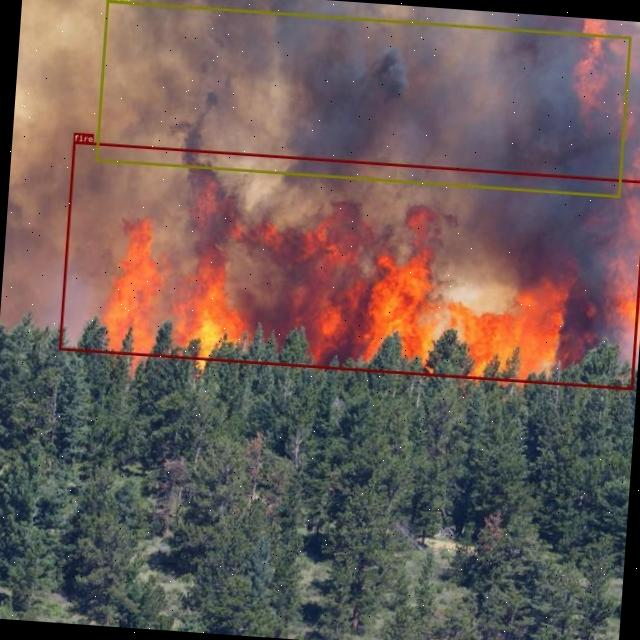fire: (57, 140, 640, 389)
smoke: (94, 0, 630, 196)
